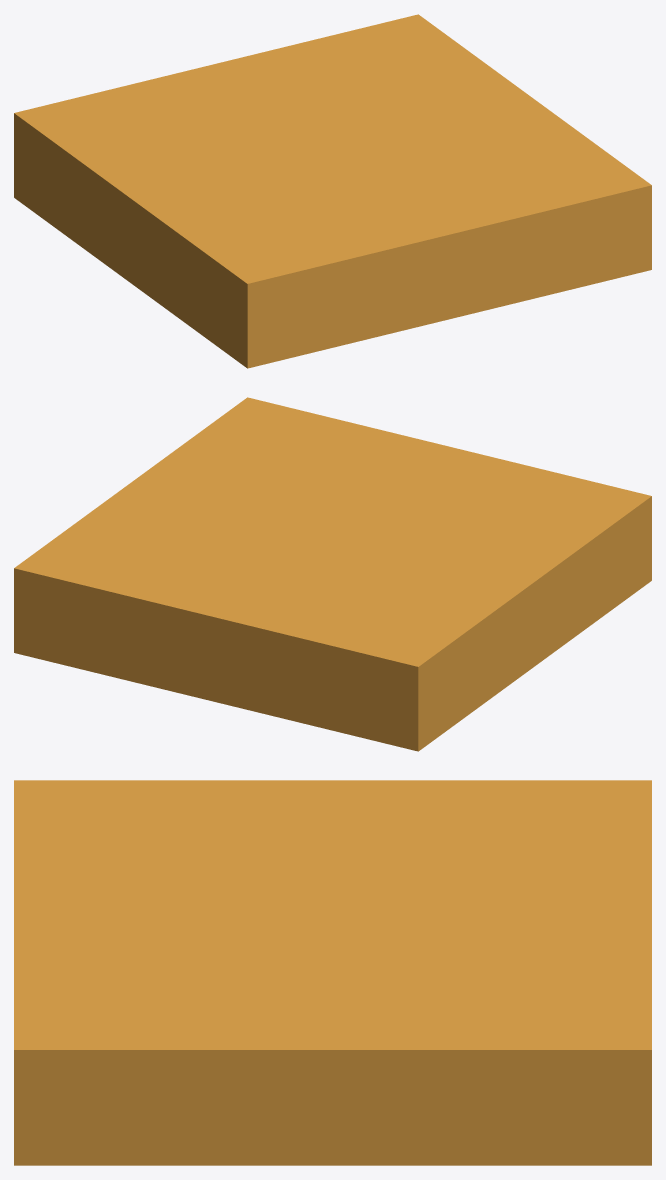
File: tiles-tile-race-track-start-grid.glb
3 views of the same model, one above another, from view 1: azimuth 30°, elevation 25°; view 2: azimuth 150°, elevation 25°; view 3: azimuth 270°, elevation 25° (orthographic). The views are drawn at different scales.
Visible parts, largest first — view 1: tile-race-track-start-grid; view 2: tile-race-track-start-grid; view 3: tile-race-track-start-grid.
Part boxes in pixels (bbox=[...]): tile-race-track-start-grid: bbox=[14, 14, 651, 368]; tile-race-track-start-grid: bbox=[14, 397, 651, 751]; tile-race-track-start-grid: bbox=[14, 780, 651, 1165].
Bounding box in the file's own units: 30 × 6 × 30.
